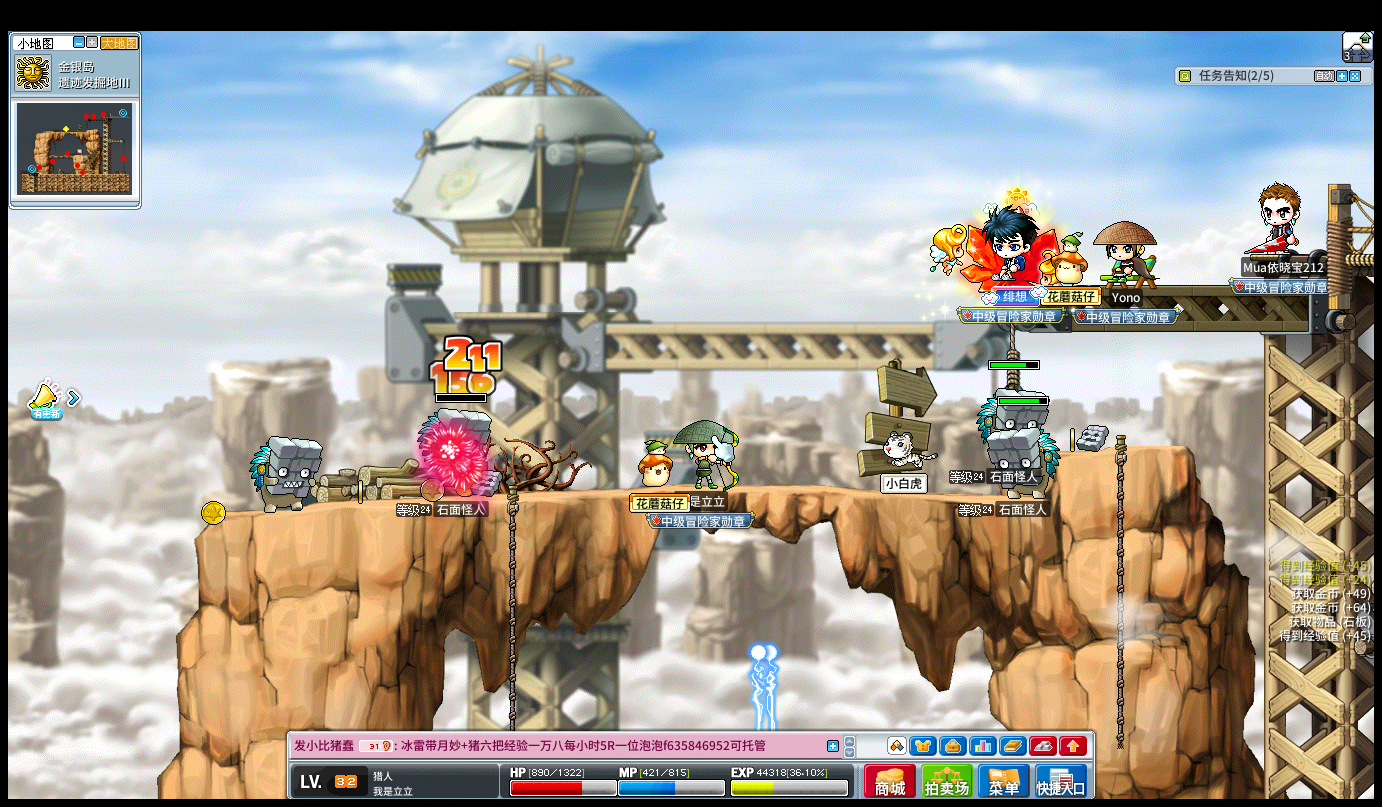floor: (212, 479, 1099, 508), (1058, 440, 1191, 457)
monster: (415, 407, 491, 492), (248, 435, 322, 513), (983, 426, 1059, 496)
rope: (1111, 433, 1128, 756), (505, 478, 518, 686)
